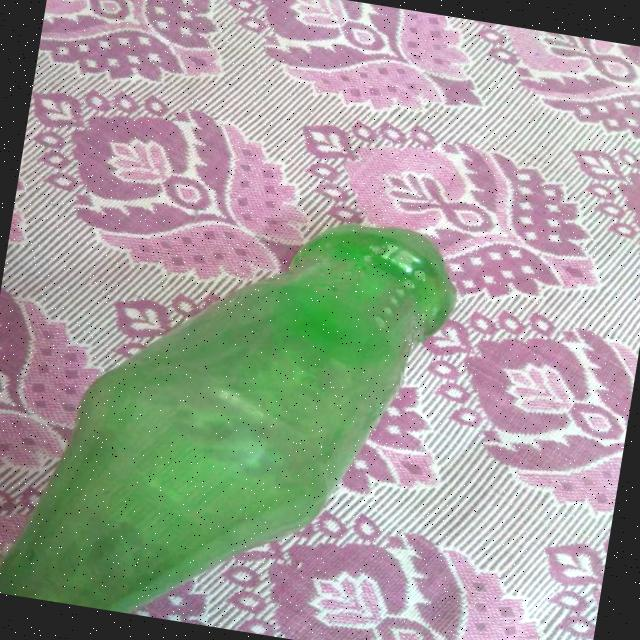bottle: (0, 188, 511, 623)
